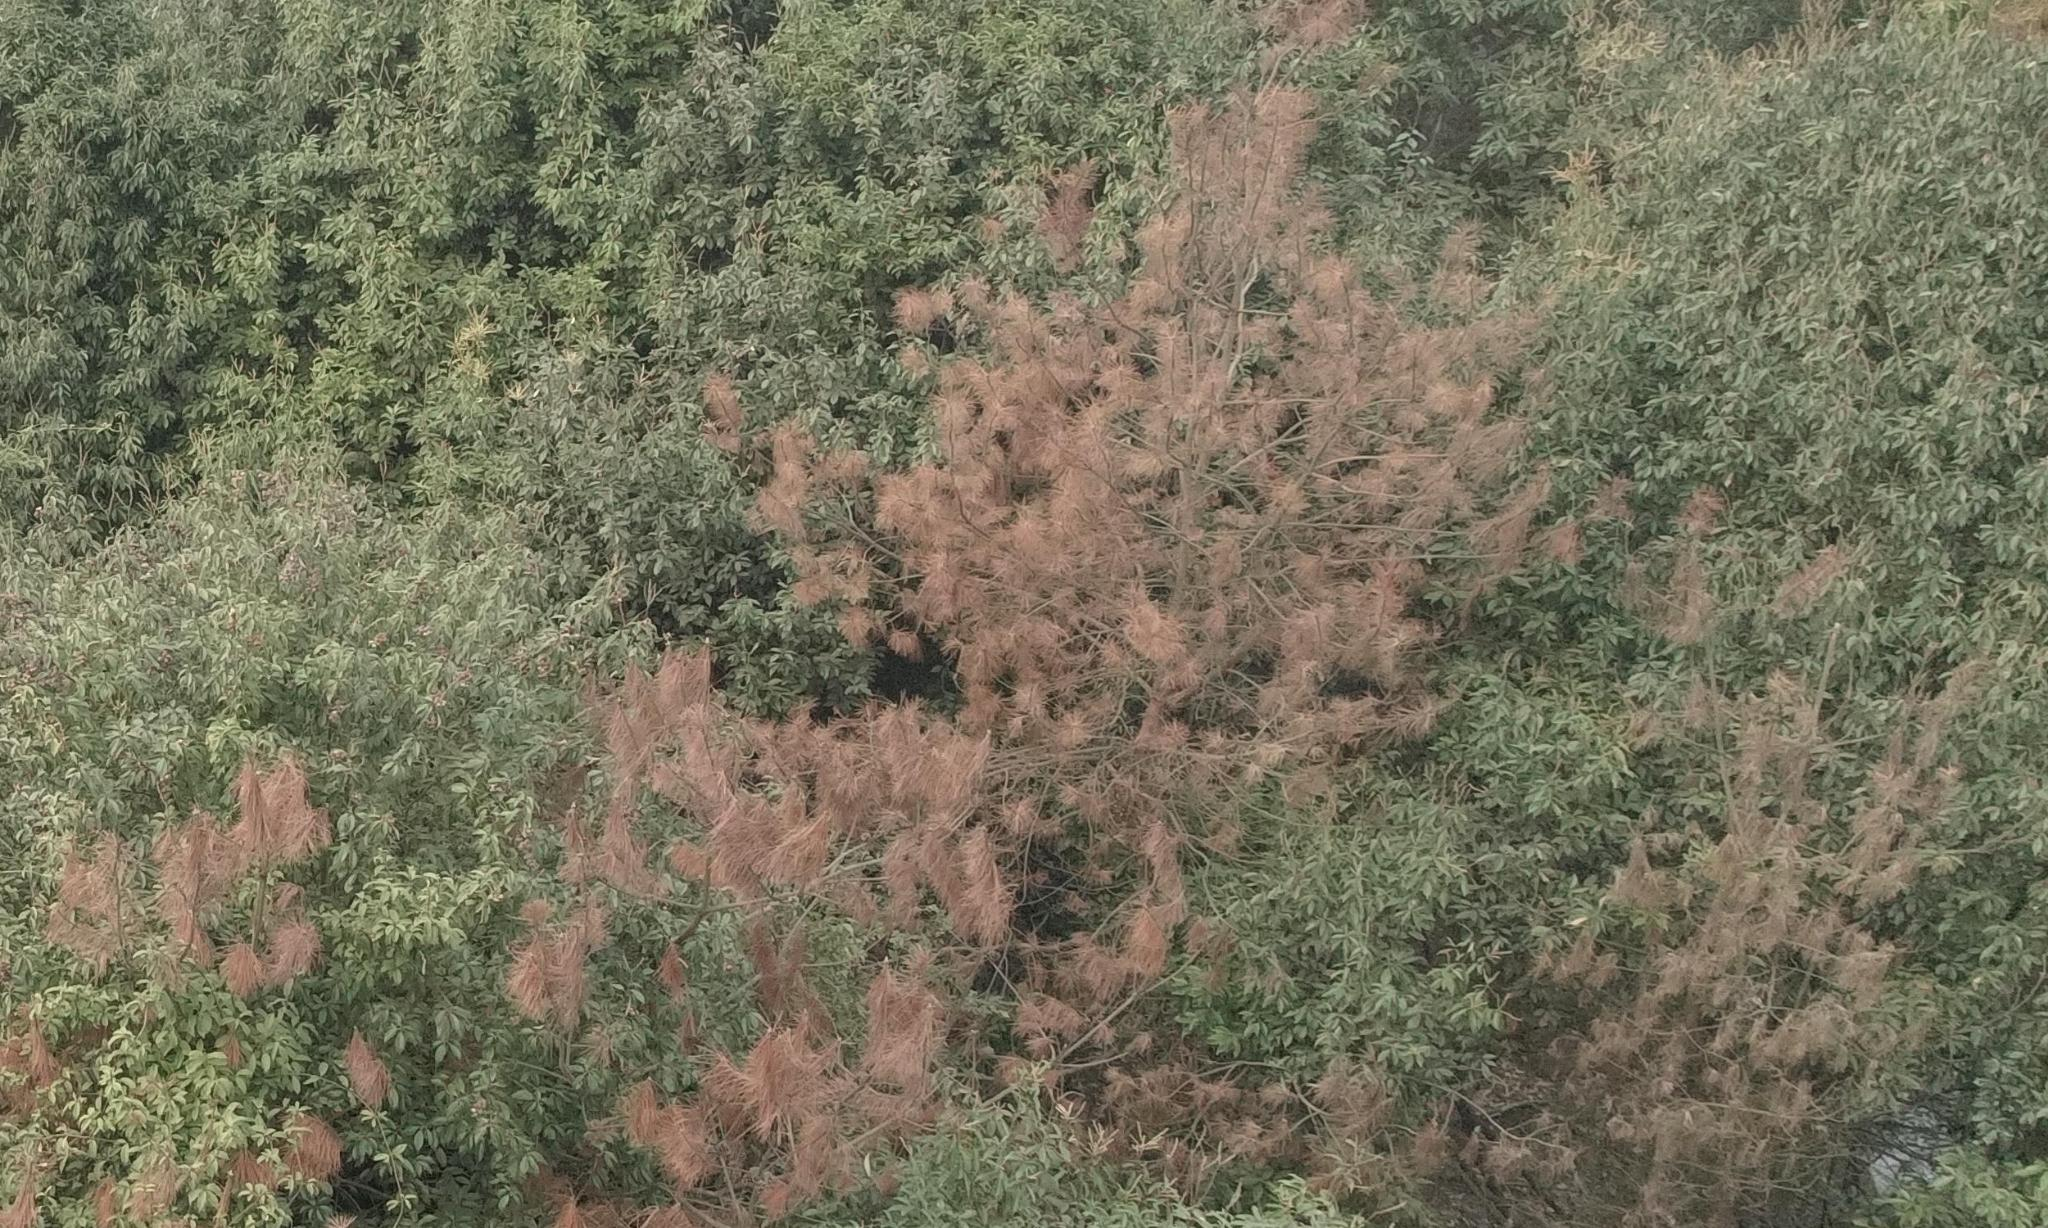heavy: (713, 66, 1475, 849), (1607, 501, 1956, 1228), (22, 731, 472, 1209)
